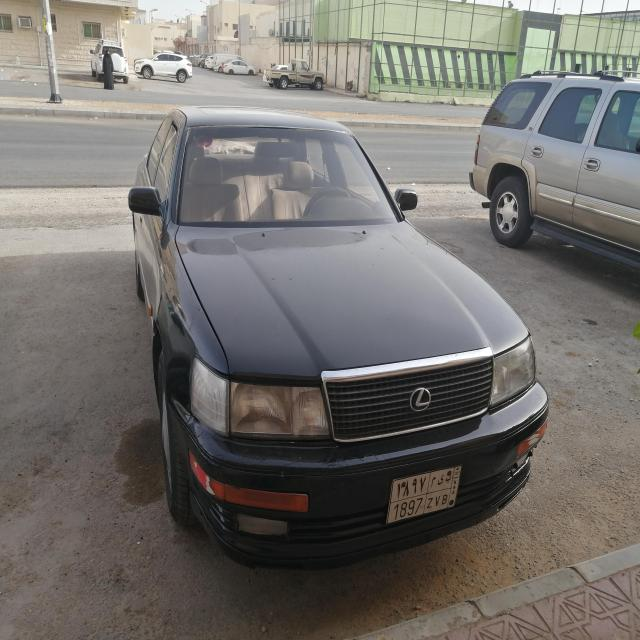license_plate: (386, 465, 462, 526)
